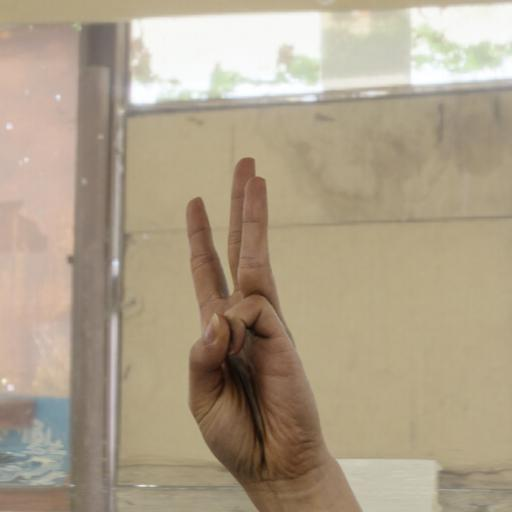W: (166, 155, 323, 479)
